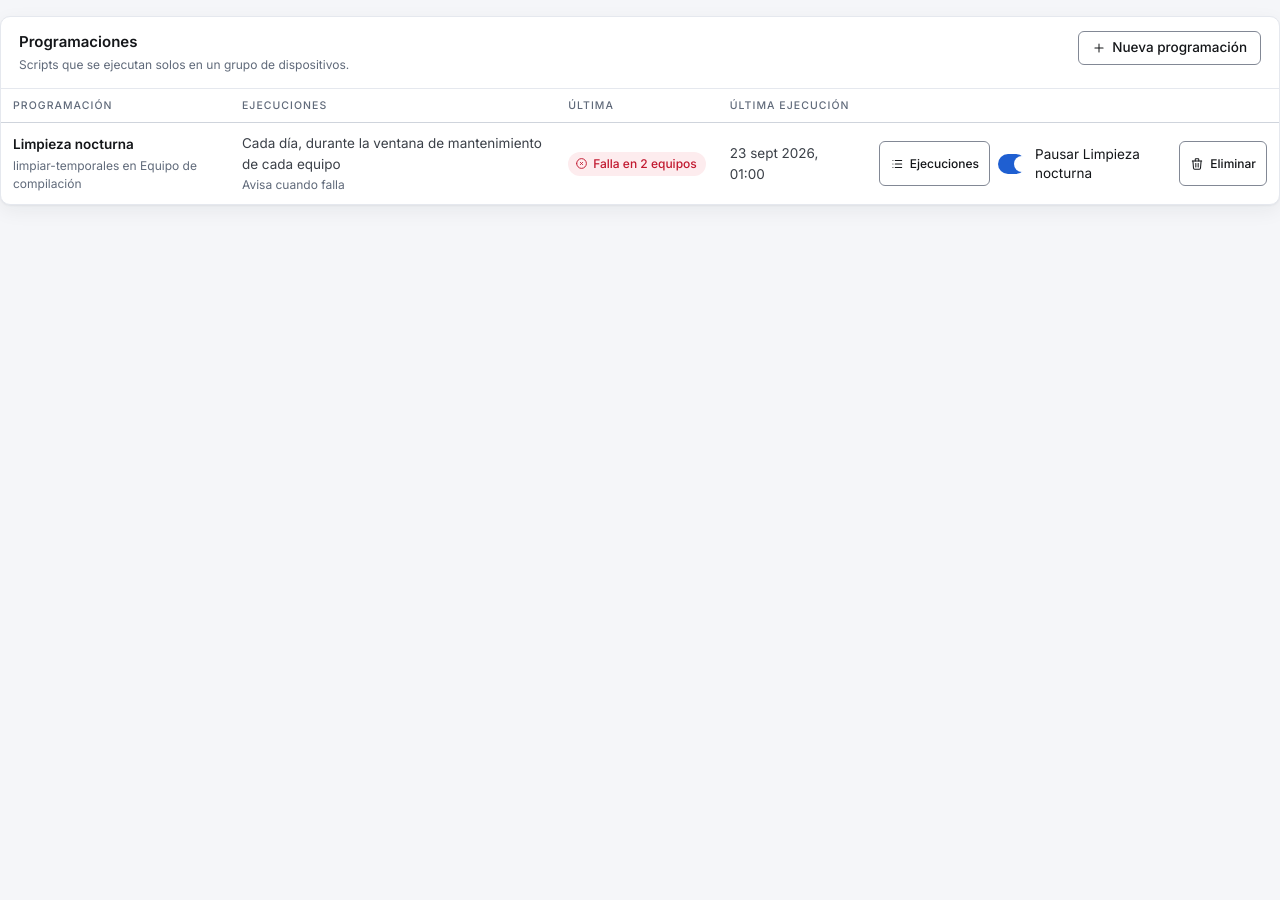
the schedules panel, in Spanish › words the runs dialog
The image size is (1280, 900).
Expected: the text "Limpieza nocturna" is shown, 13,136 -> 134,152
Click the button "Ejecuciones": coordinates (934, 164) 879,141 -> 990,186
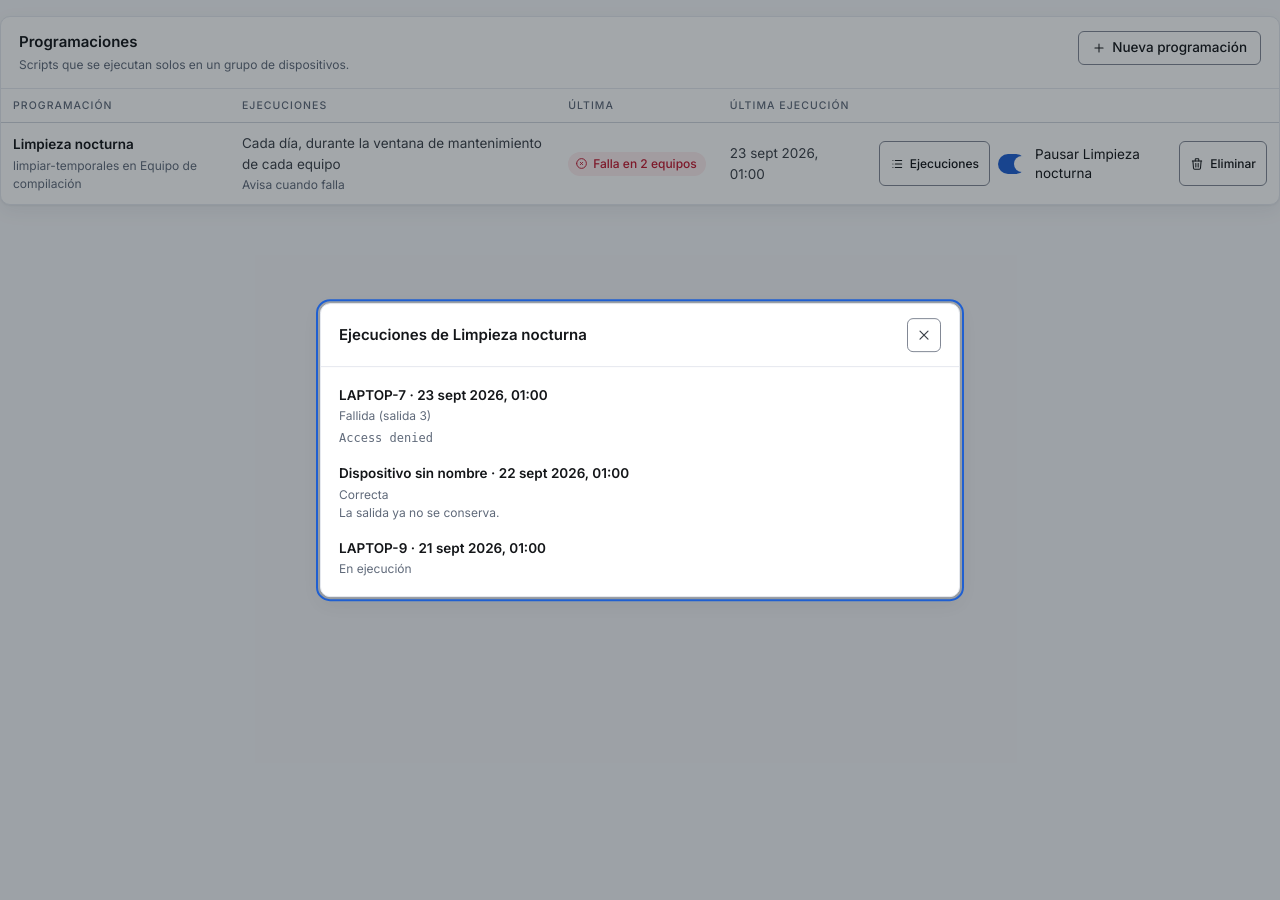
Now the text "Fallida (salida 3)" is shown, box 339,408 -> 431,423
Now the text "Correcta" is shown, box 339,487 -> 389,502
Now the text "En ejecución" is shown, box 339,561 -> 412,576
